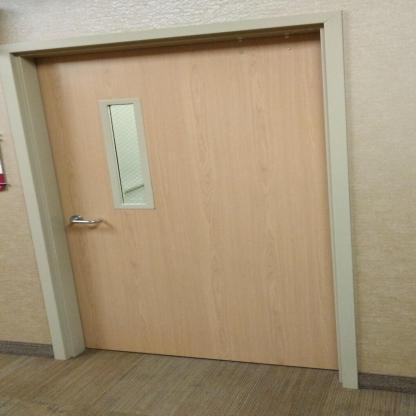door: (69, 56, 323, 347)
lever: (68, 216, 102, 228)
